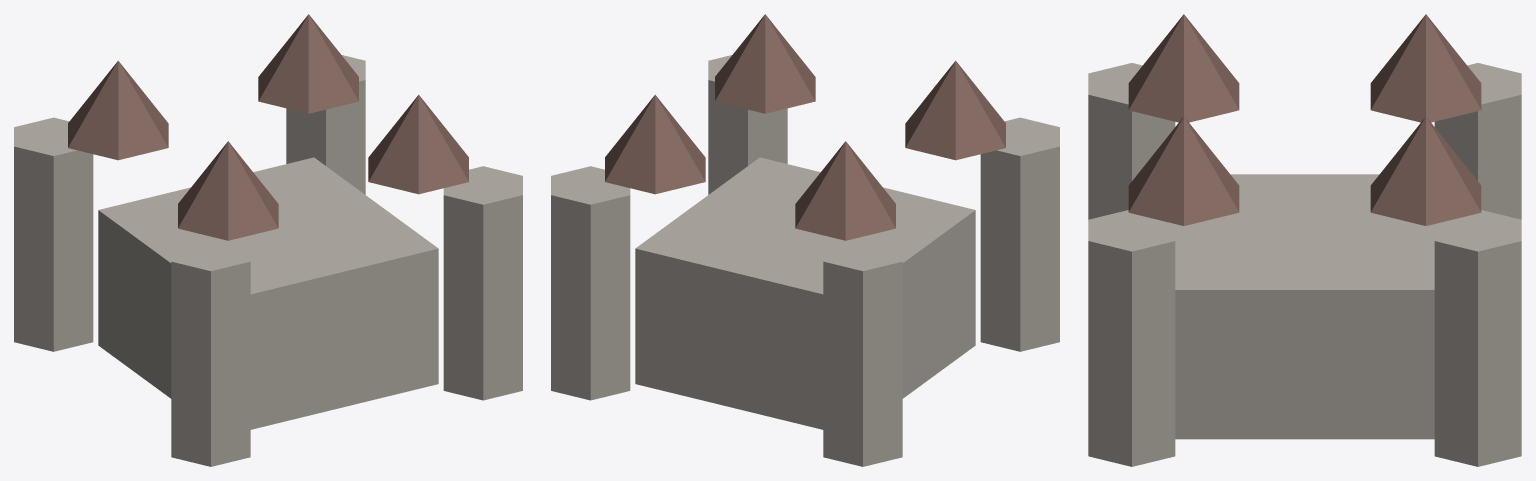
3 views of the same model, side by side, from view 1: azimuth 30°, elevation 25°; view 2: azimuth 150°, elevation 25°; view 3: azimuth 270°, elevation 25° (orthographic). The views are drawn at different scales.
Parts seen in each view (by area): view 1: part0, part7, part3, part5, part4, part2, part8, part6, part1; view 2: part0, part5, part1, part7, part2, part4, part6, part8, part3; view 3: part0, part1, part3, part5, part7, part2, part4, part6, part8.
Boxes of the visible parts, box(x1,y1,x2,y2) form: part0: box(98, 157, 438, 429); part7: box(171, 234, 250, 466); part3: box(443, 166, 522, 400); part5: box(14, 117, 93, 351); part4: box(368, 94, 468, 194); part2: box(258, 14, 358, 113); part8: box(178, 141, 278, 240); part6: box(68, 60, 168, 160); part1: box(286, 55, 365, 194); part0: box(635, 157, 975, 429); part5: box(823, 234, 902, 466); part1: box(551, 166, 630, 400); part7: box(980, 117, 1059, 351); part2: box(605, 94, 705, 194); part4: box(715, 14, 815, 113); part6: box(795, 141, 895, 240); part8: box(905, 60, 1005, 160); part3: box(708, 55, 787, 194); part0: box(1175, 174, 1434, 439); part1: box(1434, 210, 1521, 466); part3: box(1088, 210, 1175, 466); part5: box(1434, 63, 1521, 219); part7: box(1088, 63, 1175, 219); part2: box(1370, 116, 1481, 225); part4: box(1128, 116, 1239, 225); part6: box(1370, 14, 1481, 122); part8: box(1128, 14, 1239, 122).
Bounding box in the file's own units: 4.89 × 3.82 × 4.74.
